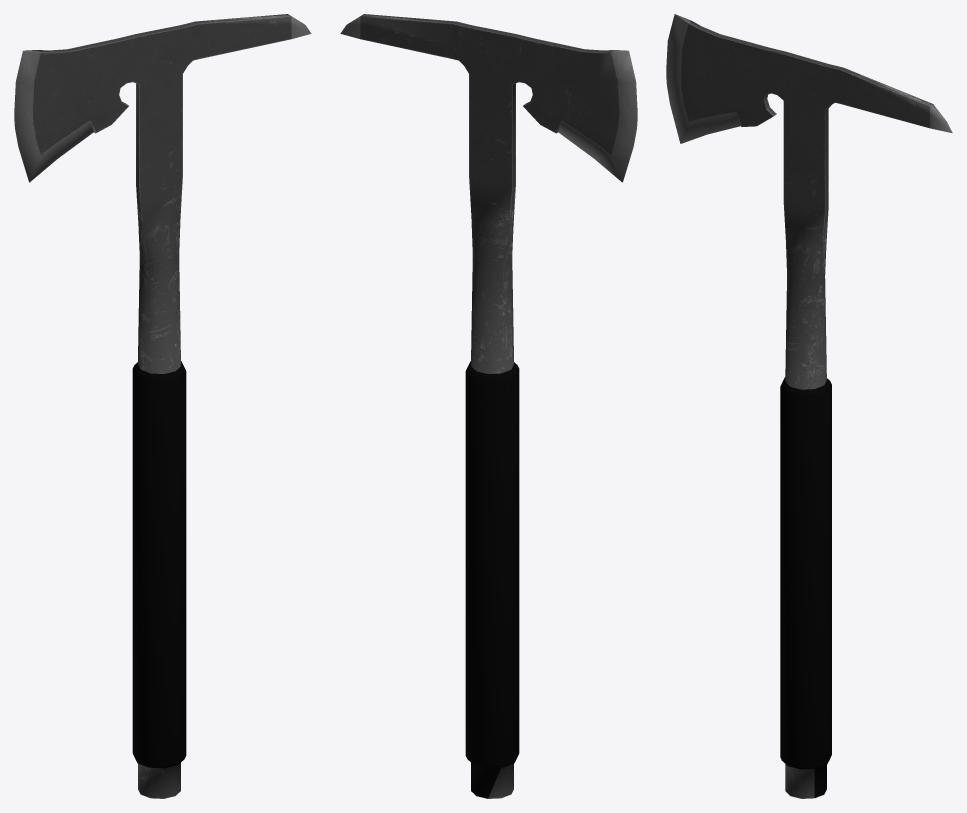
Rendered from cc0-melee-weapons-pack-glb--tomahawk-modern.glb.
3 views of the same model, side by side, from view 1: azimuth 30°, elevation 25°; view 2: azimuth 150°, elevation 25°; view 3: azimuth 330°, elevation 25° (orthographic). The views are drawn at different scales.
Visible parts, largest first — view 1: Tomahawk2; view 2: Tomahawk2; view 3: Tomahawk2.
Boxes of the visible parts, x1=… form: Tomahawk2: x1=14, y1=14, x2=311, y2=798; Tomahawk2: x1=340, y1=14, x2=637, y2=798; Tomahawk2: x1=666, y1=14, x2=952, y2=798.
Size of the model in its own units: 0.179 by 0.4452 by 0.0267.
1 material, 1 textured.
